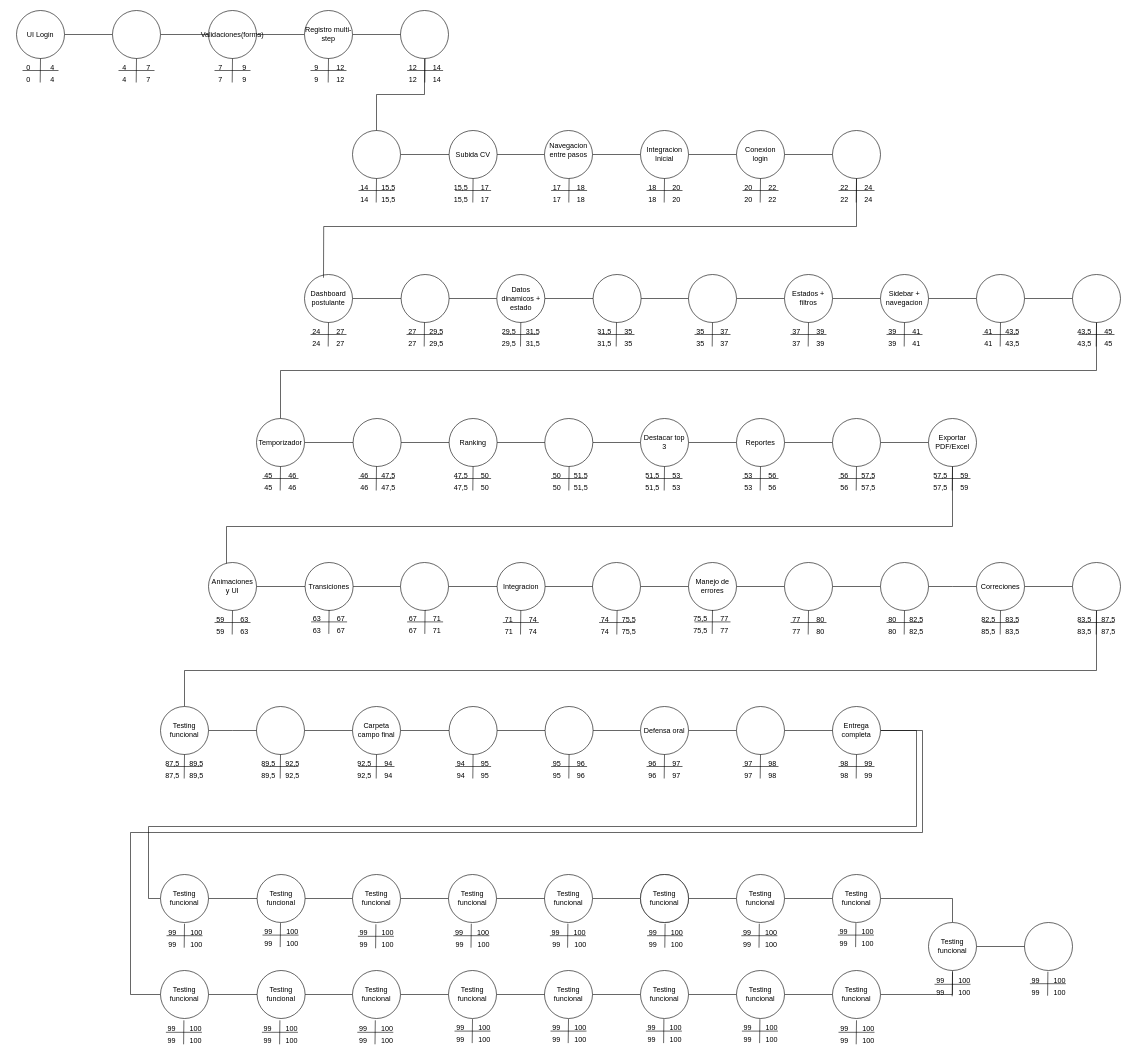
Image size: 1136x1061. Some labels were removed from this diagram. The centre of each missing label's shape, as x and y in pixels:
"Animaciones scroll" belongs at pixel 424 586.
"Archivo final" belongs at pixel 760 730.
"Conectar vistas restantes" belongs at pixel 616 586.
"Conexion registro" belongs at pixel 856 154.
"Correcciones finales" belongs at pixel 568 730.
"Correcion de errores" belongs at pixel 280 730.
"Dashboard RRHH" belongs at pixel 616 298.
"Datos personales" belongs at pixel 424 34.
"Entrega docente" belongs at pixel 472 730.
"Experiencia" belongs at pixel 376 154.
"Grafico barras" belongs at pixel 856 442.
"Navegacion preguntas" belongs at pixel 376 442.
"Proyecto finalizado" belongs at pixel 1048 946.
"Pruebas UI" belongs at pixel 904 586.
"Tabla postulantes" belongs at pixel 712 298.
"Test general" belongs at pixel 1096 586.
"Test online" belongs at pixel 1000 298.
"Testing Frontend" belongs at pixel 808 586.
"UI + estructura" belongs at pixel 424 298.
"UI preguntas" belongs at pixel 1096 298.
"UI ranking" belongs at pixel 568 442.
"UI Registro" belongs at pixel 136 34.
